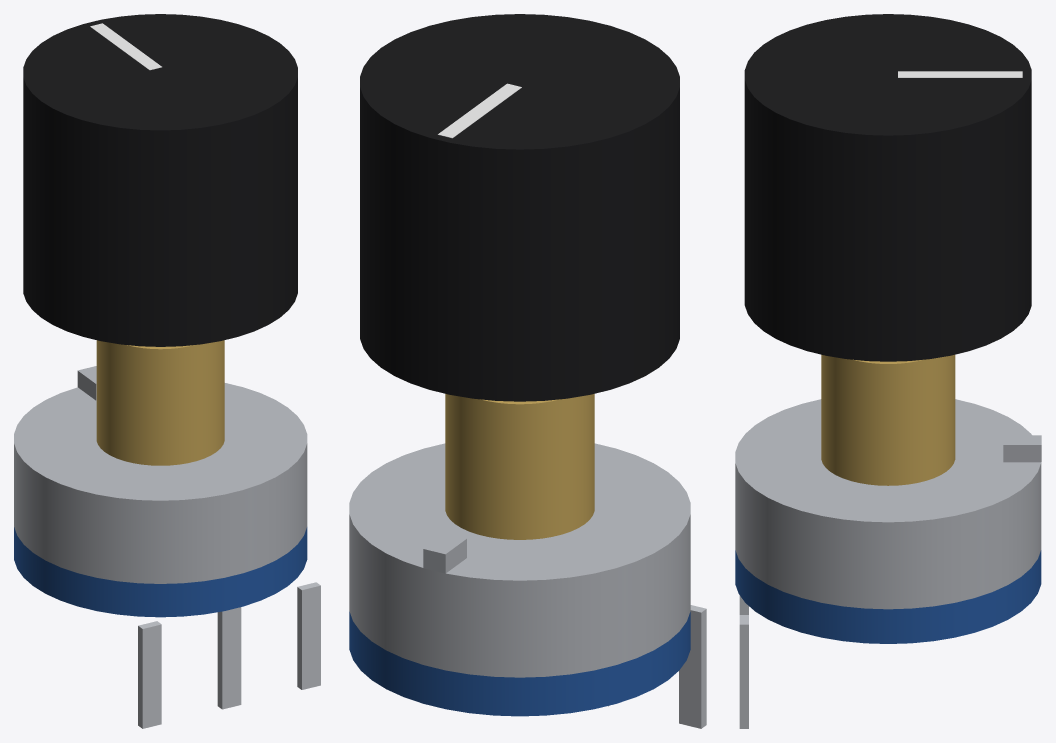
File: potentiometer-wh148.glb
3 renders of one model, left to right at view 1: azimuth 30°, elevation 25°; view 2: azimuth 150°, elevation 25°; view 3: azimuth 270°, elevation 25°, orthographic. The views are drawn at different scales.
Visible parts, largest first — view 1: shaft, object 2, object 3, object 1, pin-3, pin-1, pin-2; view 2: shaft, object 2, object 3, object 1, pin-1; view 3: shaft, object 2, object 3, object 1, pin-3.
Part boxes in pixels (x1,y1,x2,y2): shaft: [23, 14, 297, 346]; object 2: [14, 366, 307, 583]; object 3: [96, 340, 224, 465]; object 1: [14, 527, 307, 617]; pin-3: [297, 582, 320, 689]; pin-1: [138, 621, 161, 728]; pin-2: [217, 607, 241, 709]; shaft: [360, 14, 679, 401]; object 2: [349, 443, 690, 677]; object 3: [445, 394, 594, 539]; object 1: [349, 611, 690, 716]; pin-1: [679, 605, 706, 728]; shaft: [744, 14, 1031, 361]; object 2: [735, 399, 1041, 609]; object 3: [821, 354, 955, 485]; object 1: [735, 550, 1041, 643]; pin-3: [739, 615, 748, 728].
Size of the model in its own units: 0.016 by 0.035 by 0.016.
